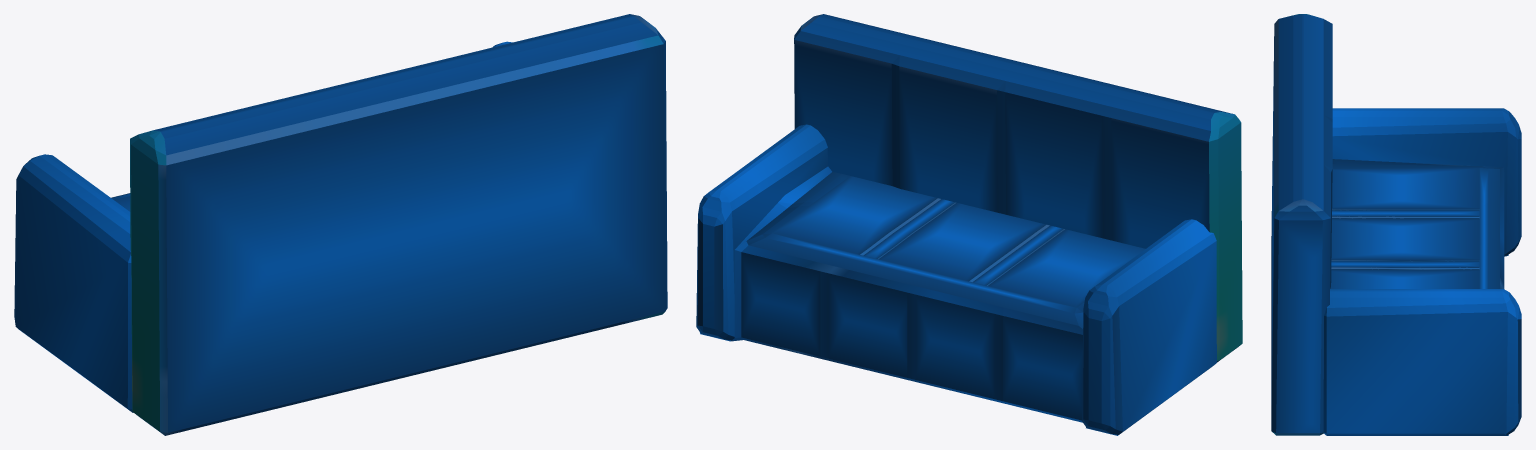
Rendered from sofa.obj.
3 views of the same model, side by side, from view 1: azimuth 30°, elevation 25°; view 2: azimuth 150°, elevation 25°; view 3: azimuth 270°, elevation 25° (orthographic). The views are drawn at different scales.
Parts seen in each view (by area): view 1: Sofa; view 2: Sofa; view 3: Sofa.
Part boxes in pixels (x1=…): Sofa: x1=14, y1=14, x2=667, y2=435; Sofa: x1=696, y1=14, x2=1242, y2=435; Sofa: x1=1271, y1=14, x2=1521, y2=435.
Size of the model in its own units: 15.65 by 8.49 by 8.31.
